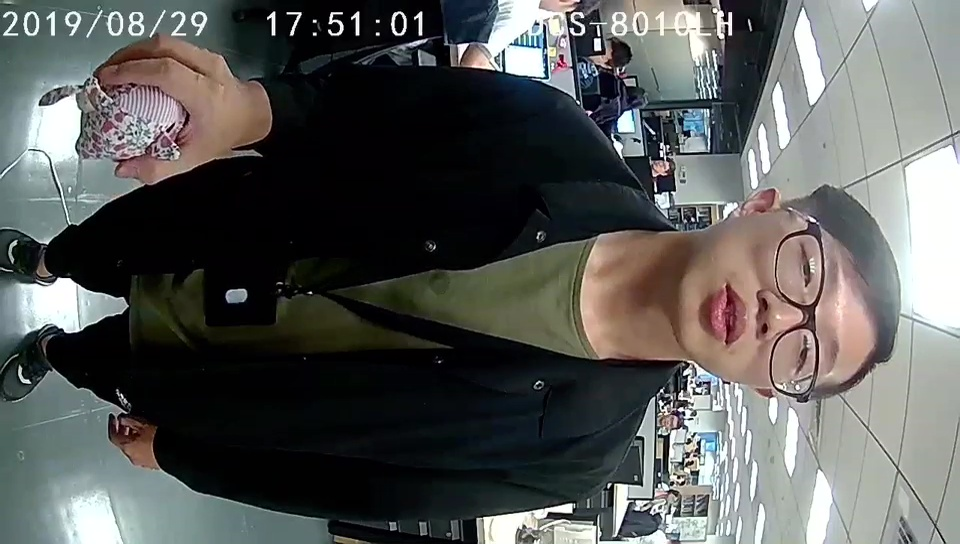pig: (72, 80, 189, 164)
